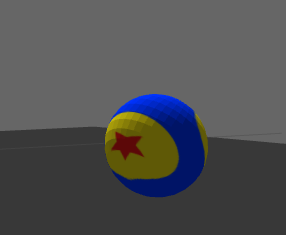toy story ball: (105, 93, 208, 198)
